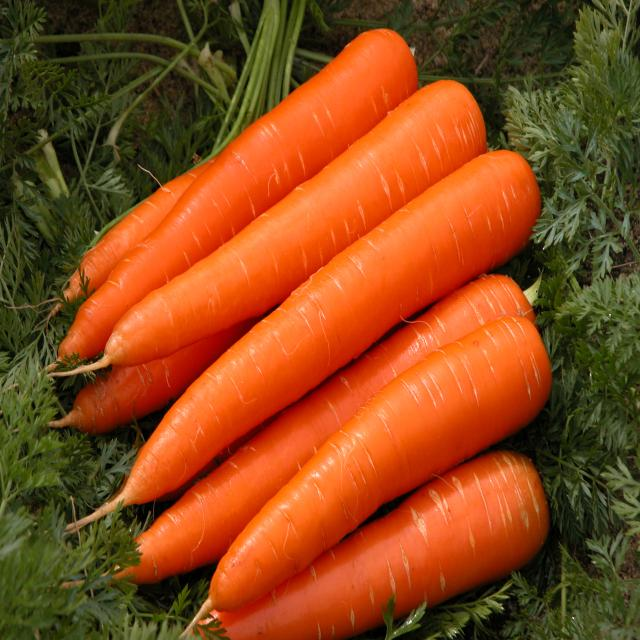Fresh_Carrot: (62, 34, 554, 618), (101, 148, 539, 542), (129, 278, 525, 585), (54, 37, 439, 340), (112, 80, 491, 357), (224, 320, 544, 605), (205, 458, 558, 635)
